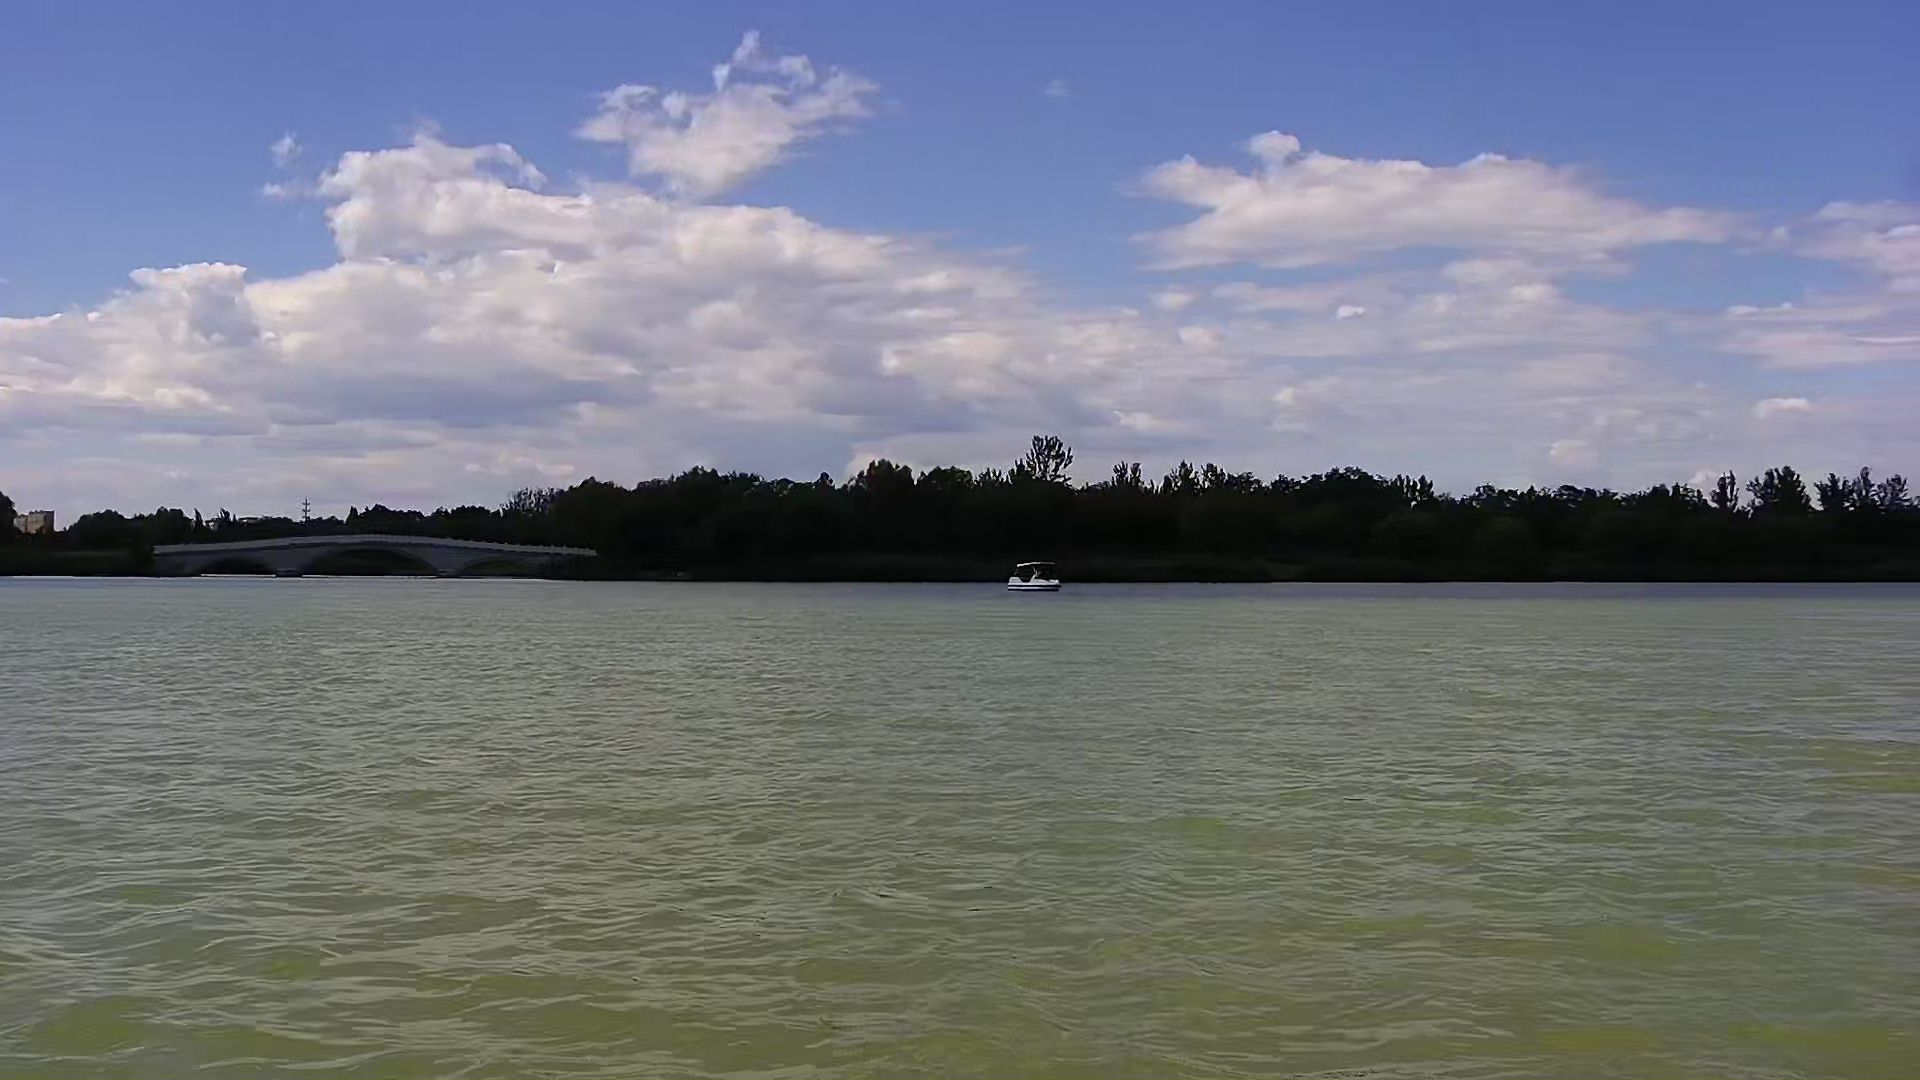boat: (1007, 553, 1063, 599)
bridge: (146, 530, 600, 585)
